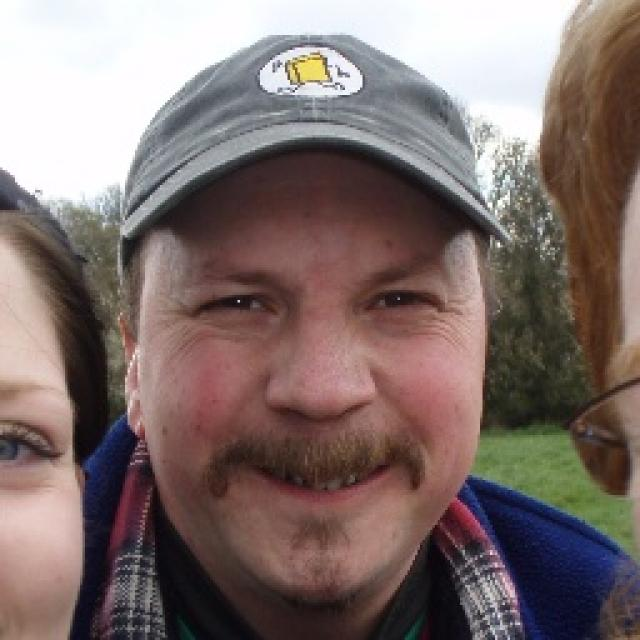earlobe: (122, 310, 150, 440)
